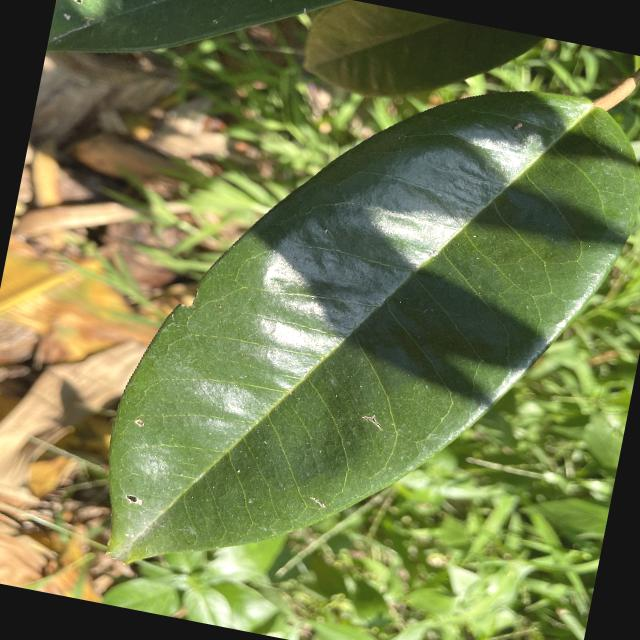No Disease: (76, 9, 639, 639)
